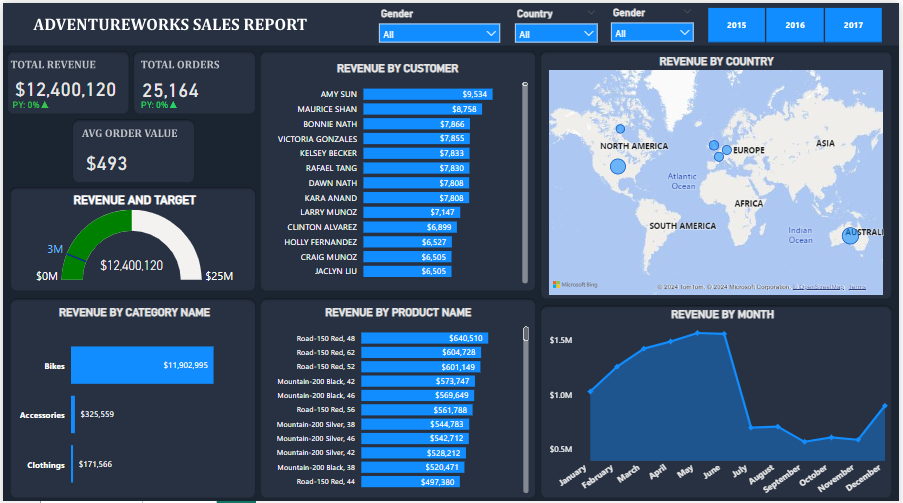

The dashboard page shown, as its layout file describes it:
{"tool":"powerbi","page":{"name":"SALES","canvas":[1280,720],"ordinal":1},"visuals":[{"type":"barChart","title":"REVENUE BY CATEGORY NAME","fields":{"Y":["DAX MEASURES.Total Revenue"],"Category":["AdventureWorks_Product_Categories - AdventureWorks_Product_Categories.CategoryName"]},"box":[17.3,431,341.6,289.7],"z":0},{"type":"cardVisual","fields":{"Data":["DAX MEASURES.Total Orders"]},"box":[181.6,82.2,136.9,72.1],"z":1000},{"type":"cardVisual","fields":{"Data":["DAX MEASURES.Total Revenue"]},"box":[0,80.7,201.8,75],"z":2000},{"type":"cardVisual","fields":{"Data":["DAX MEASURES.Average Order Value"]},"box":[100.9,187.4,136.9,70.6],"z":3000},{"type":"card","fields":{"Values":["DAX MEASURES.Orders %"]},"box":[178.7,128.3,90.8,36],"z":4000},{"type":"card","fields":{"Values":["DAX MEASURES.Revenue %"]},"box":[0,131.2,80.7,31.7],"z":5000},{"type":"barChart","title":"REVENUE BY PRODUCT NAME","fields":{"Y":["DAX MEASURES.Total Revenue"],"Category":["AdventureWorks_Products - AdventureWorks_Products.ProductName"]},"box":[373.3,431,383.4,273.9],"z":6000},{"type":"clusteredBarChart","title":"REVENUE BY CUSTOMER","fields":{"Y":["DAX MEASURES.Total Revenue"],"Category":["AdventureWorks_Customers - AdventureWorks_Customers.FullName"]},"box":[373.3,82.2,382,322.9],"z":7000},{"type":"gauge","title":"REVENUE AND TARGET","fields":{"Y":["DAX MEASURES.Total Revenue"],"TargetValue":["DAX MEASURES.Target"]},"box":[0,271,376.2,134.1],"z":8000},{"type":"slicer","fields":{"Values":["Calender.Date.Variation.Date Hierarchy.Year"]},"box":[981.6,0,298.4,63.4],"z":9000},{"type":"map","title":"REVENUE BY COUNTRY","fields":{"Size":["DAX MEASURES.Total Revenue"],"Category":["AdventureWorks_Territories - AdventureWorks_Territories.Country"]},"box":[775.5,73.5,487.2,348.8],"z":9001},{"type":"areaChart","title":"REVENUE BY MONTH","fields":{"Y":["DAX MEASURES.Total Revenue"],"Category":["Calender.Date.Variation.Date Hierarchy.Month"]},"box":[775.5,433.9,504.5,286.8],"z":9002},{"type":"slicer","fields":{"Values":["AdventureWorks_Customers - AdventureWorks_Customers.Gender"]},"box":[859.1,0,138.4,59.1],"z":9003},{"type":"slicer","fields":{"Values":["AdventureWorks_Territories - AdventureWorks_Territories.Country"]},"box":[720.7,1.4,138.4,59.1],"z":9004},{"type":"slicer","fields":{"Values":["AdventureWorks_Customers - AdventureWorks_Customers.Gender"]},"box":[527.6,1.4,193.2,59.1],"z":9005}]}

Visuals, with their boxes in screenshot pixels (x1, y1, x2, y2), scaled from the page's 1280x720 canvas onto the 903x503 screenshot:
"REVENUE BY CATEGORY NAME" barChart: bbox=[12, 301, 253, 502]
cardVisual - DAX MEASURES.Total Orders: bbox=[128, 57, 225, 108]
cardVisual - DAX MEASURES.Total Revenue: bbox=[0, 56, 142, 109]
cardVisual - DAX MEASURES.Average Order Value: bbox=[71, 131, 168, 180]
card - DAX MEASURES.Orders %: bbox=[126, 90, 190, 115]
card - DAX MEASURES.Revenue %: bbox=[0, 92, 57, 114]
"REVENUE BY PRODUCT NAME" barChart: bbox=[263, 301, 534, 492]
"REVENUE BY CUSTOMER" clusteredBarChart: bbox=[263, 57, 533, 283]
"REVENUE AND TARGET" gauge: bbox=[0, 189, 265, 283]
slicer - Calender.Date.Variation.Date Hierarchy.Year: bbox=[692, 0, 902, 44]
"REVENUE BY COUNTRY" map: bbox=[547, 51, 891, 295]
"REVENUE BY MONTH" areaChart: bbox=[547, 303, 902, 502]
slicer - AdventureWorks_Customers - AdventureWorks_Customers.Gender: bbox=[606, 0, 704, 41]
slicer - AdventureWorks_Territories - AdventureWorks_Territories.Country: bbox=[508, 1, 606, 42]
slicer - AdventureWorks_Customers - AdventureWorks_Customers.Gender: bbox=[372, 1, 509, 42]
